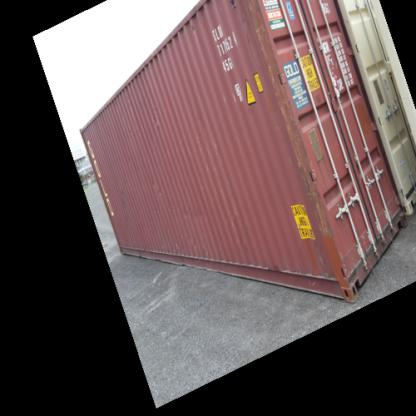Damage: (282, 94, 331, 230), (252, 3, 283, 100)
